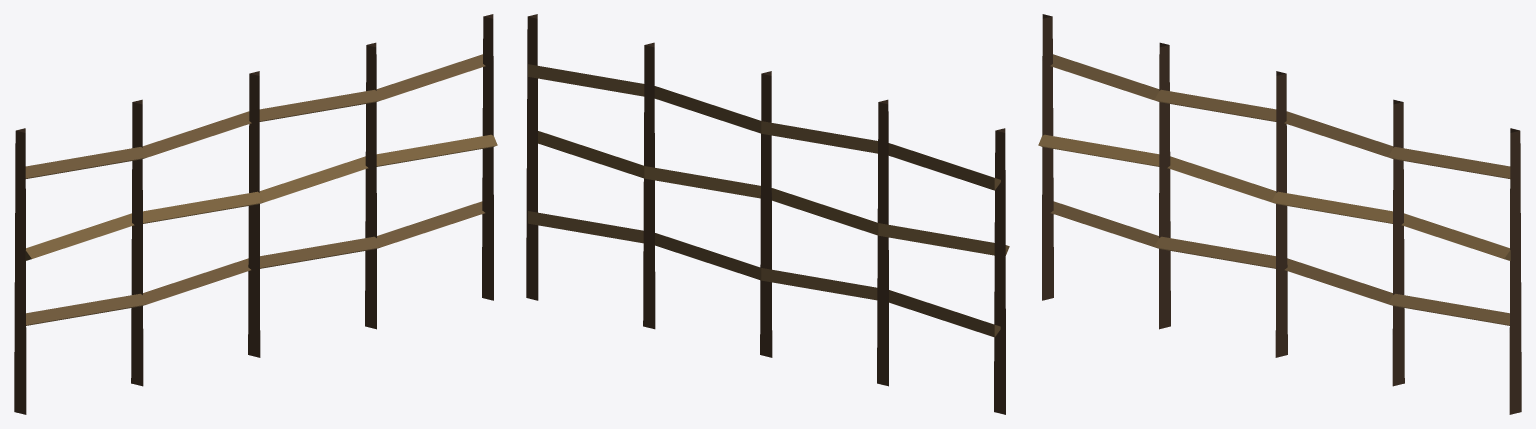
Rendered from b11_hegn.glb.
The picture shows the model from 3 angles, left to right: view 1: azimuth 30°, elevation 25°; view 2: azimuth 150°, elevation 25°; view 3: azimuth 330°, elevation 25°; orthographic projection.
Visible parts, largest first — view 1: B11_flettet_hegn; view 2: B11_flettet_hegn; view 3: B11_flettet_hegn.
Boxes of the visible parts, x1,y1,x2,y2 form: B11_flettet_hegn: (14,14,497,414); B11_flettet_hegn: (526,14,1009,414); B11_flettet_hegn: (1038,14,1521,414).
Size of the model in its own units: 2.05 by 1.15 by 0.115.
